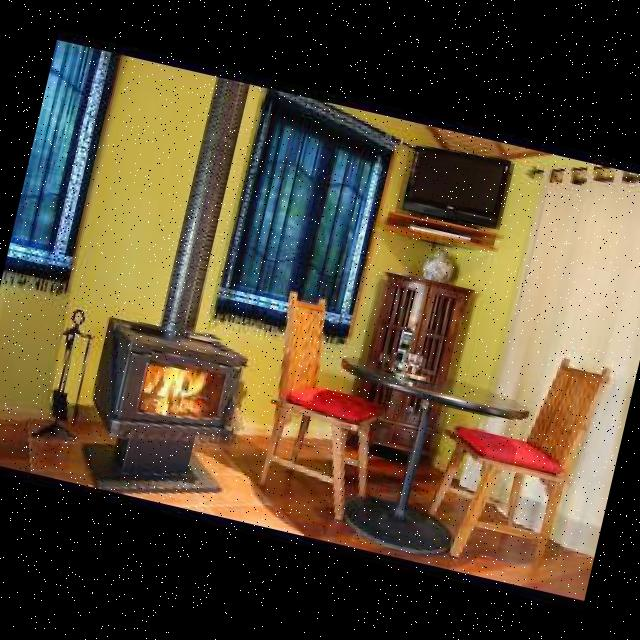fire: (138, 349, 220, 424)
